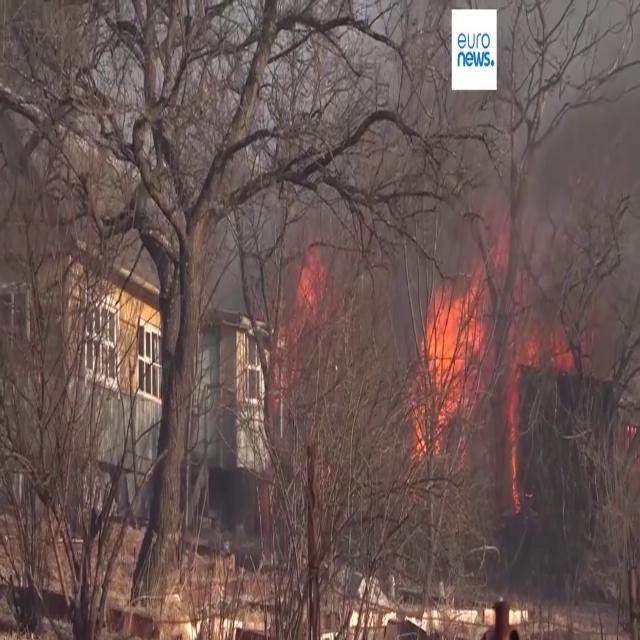Fire: (414, 258, 489, 450)
Smoke: (360, 14, 640, 423), (280, 242, 334, 348)
